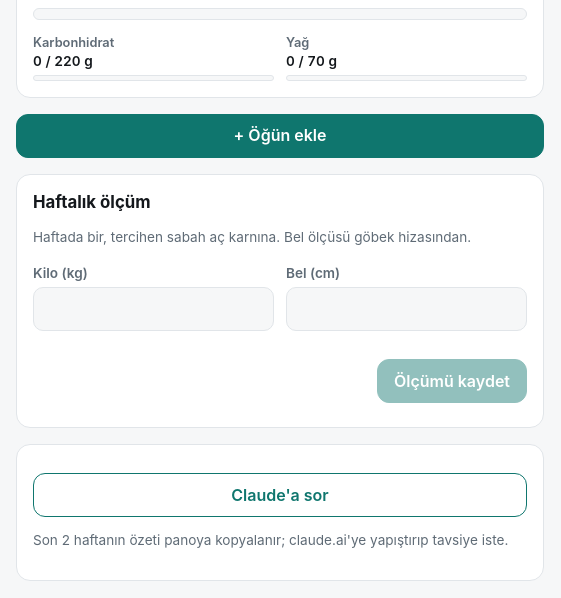
Test: haftalık ölçüm kartı › virgüllü kilo girilip kaydedilir, bel boş kalabilir; kart kapanır
The image size is (561, 598).
(page scrolled)
Expected: the heading "Haftalık ölçüm" is shown, [33,192,150,212]
Expected: the button "Ölçümü kaydet" is disabled, [377,359,527,403]
Type "78,4" into the field labelled "Kilo (kg)" at (154, 309), box [33,287,274,331]
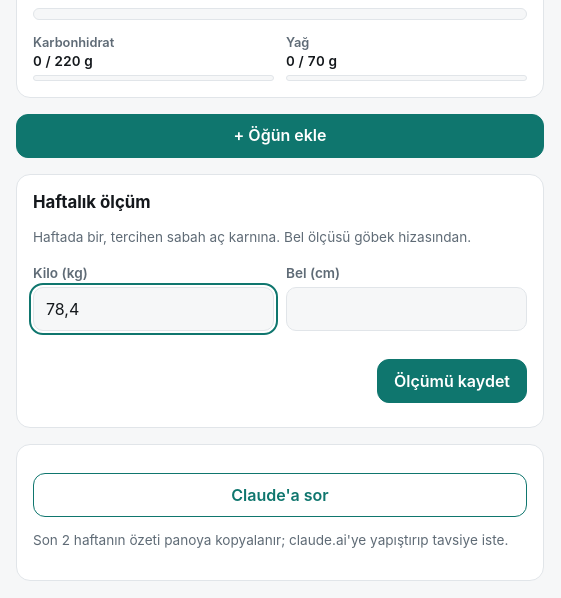
Click the button "Ölçümü kaydet" at (452, 381), box [377,359,527,403]
(page scrolled)
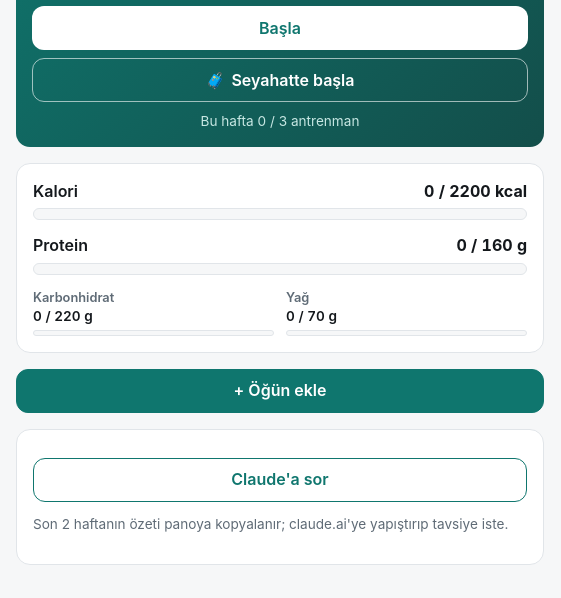
Expected: the heading "Haftalık ölçüm" is gone
